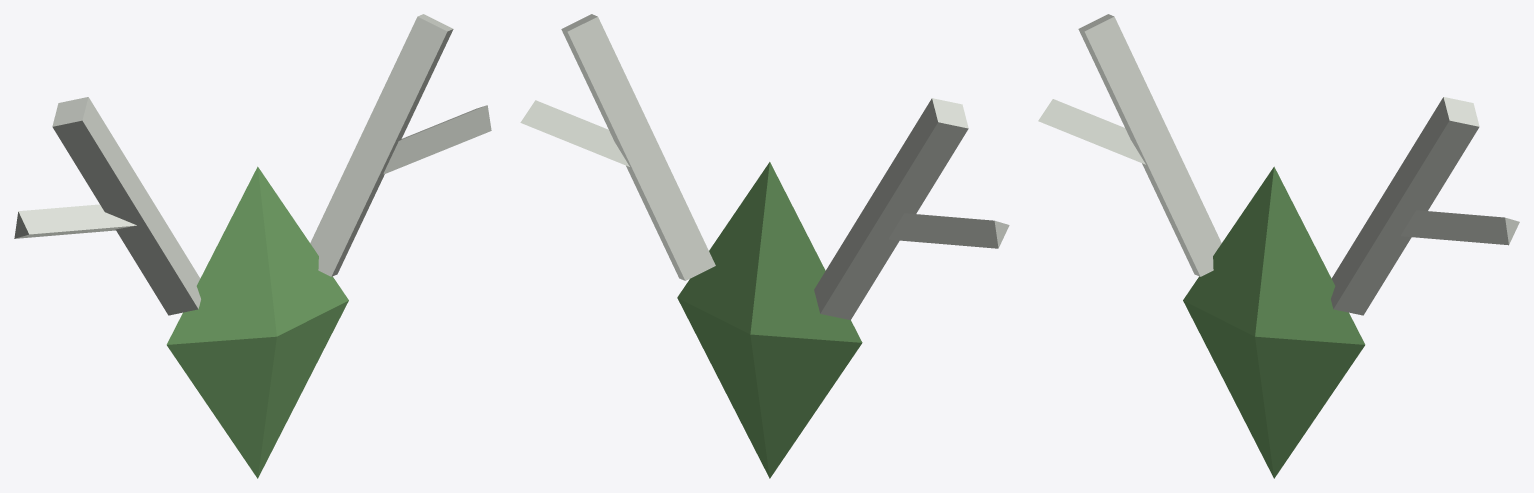
The model's file is Forest_Ornament.fbx.
3 renders of one model, left to right at view 1: azimuth 30°, elevation 25°; view 2: azimuth 150°, elevation 25°; view 3: azimuth 330°, elevation 25°, orthographic.
Visible parts, largest first — view 1: Forest_Ornament; view 2: Forest_Ornament; view 3: Forest_Ornament.
Part boxes in pixels (bbox=[...]): Forest_Ornament: bbox=[14, 14, 491, 478]; Forest_Ornament: bbox=[520, 14, 1009, 478]; Forest_Ornament: bbox=[1038, 14, 1519, 478].
Size of the model in its own units: 56.47 by 48.22 by 8.
